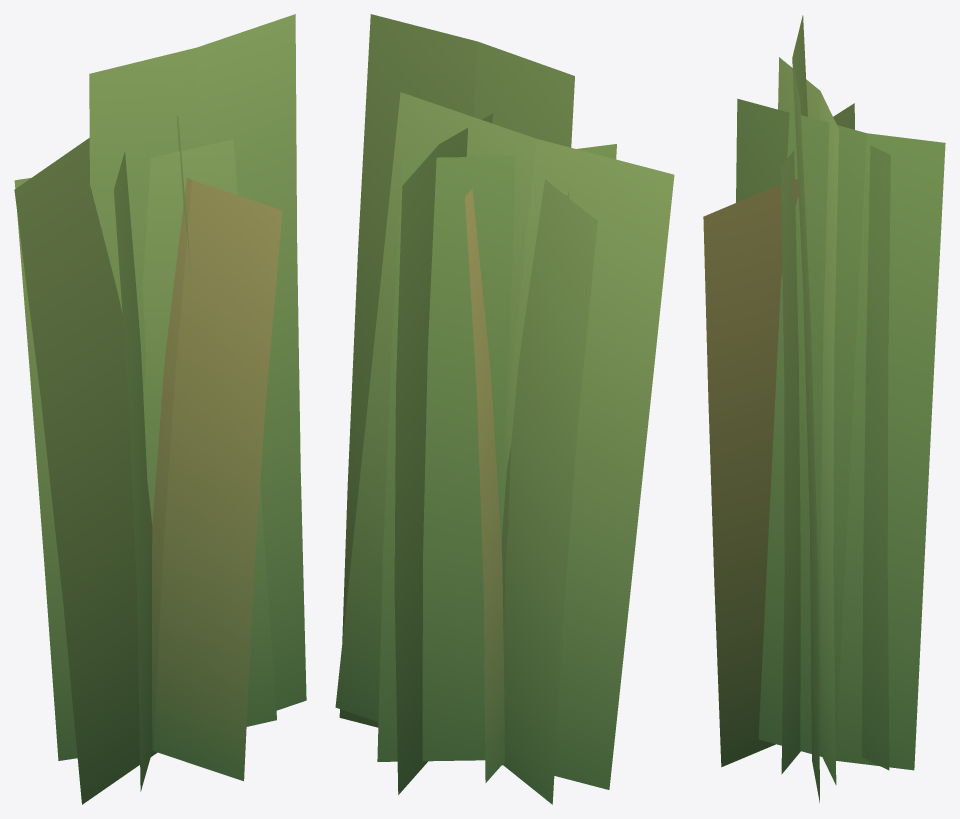
File: grass_bermuda.glb
3 views of the same model, side by side, from view 1: azimuth 30°, elevation 25°; view 2: azimuth 150°, elevation 25°; view 3: azimuth 270°, elevation 25° (orthographic).
Parts seen in each view (by area): view 1: isl_grass_bermuda; view 2: isl_grass_bermuda; view 3: isl_grass_bermuda.
Part boxes in pixels (bbox=[...]): isl_grass_bermuda: bbox=[14, 14, 306, 804]; isl_grass_bermuda: bbox=[335, 14, 674, 804]; isl_grass_bermuda: bbox=[703, 15, 945, 802].
Bounding box in the file's own units: 0.1436 × 0.3189 × 0.0972.
